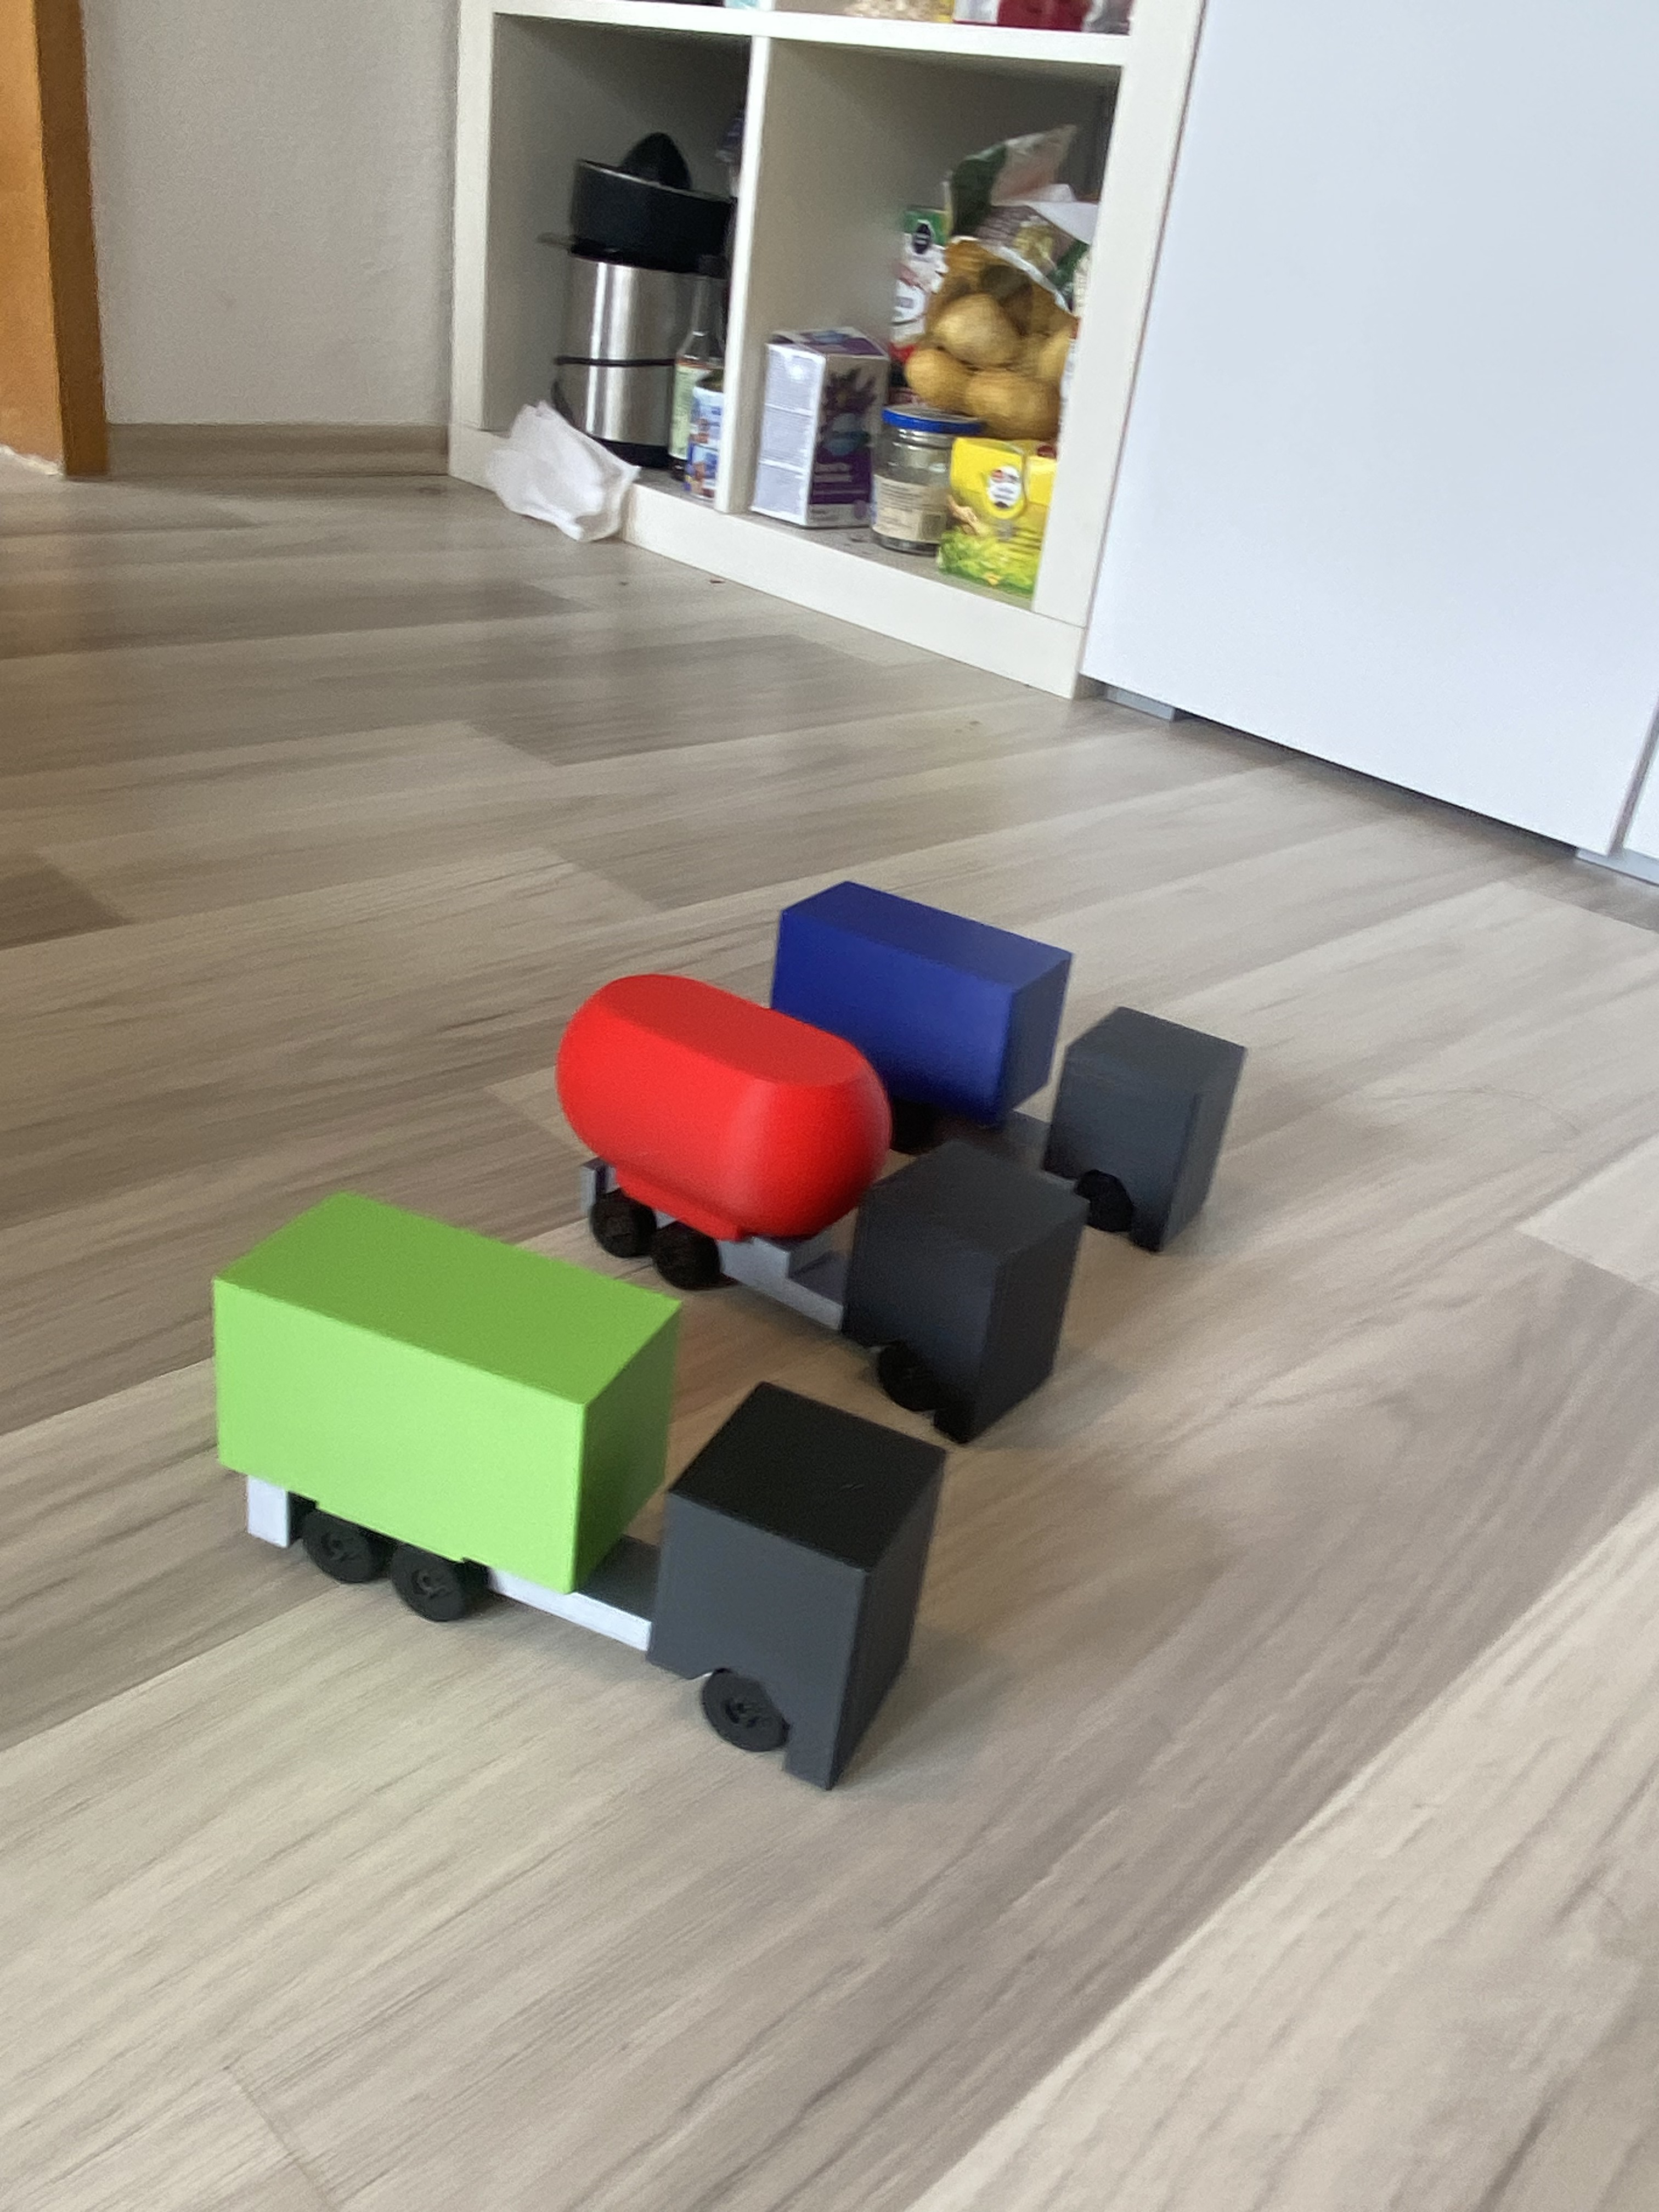blue_truck: (746, 937, 1267, 1170)
green_truck: (162, 1266, 990, 1679)
red_truck: (504, 1049, 1131, 1341)
